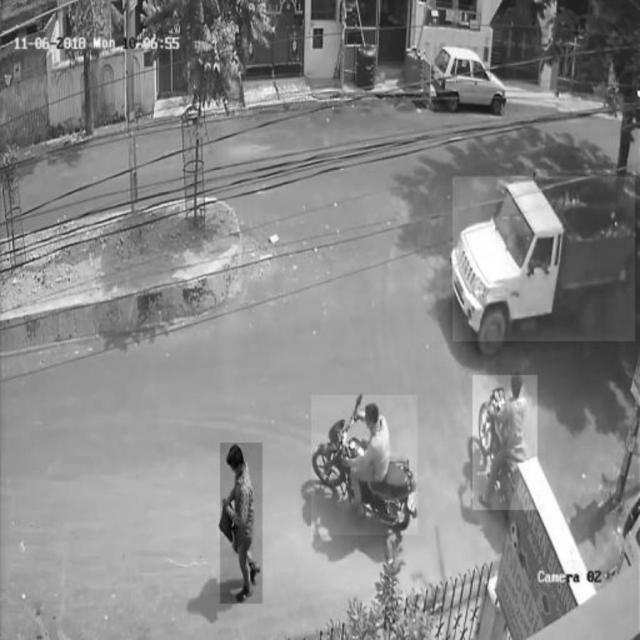person: (220, 443, 262, 603)
vehicle: (453, 177, 635, 342), (311, 395, 417, 535), (473, 375, 537, 509), (434, 46, 505, 116)
